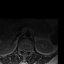CCS_normal: (24, 47, 26, 54)
LFS_normal: (28, 48, 30, 52)
LLS_stenosis: (26, 48, 28, 54)
RFS_normal: (20, 48, 22, 52)
RLS_normal: (22, 47, 24, 53)
